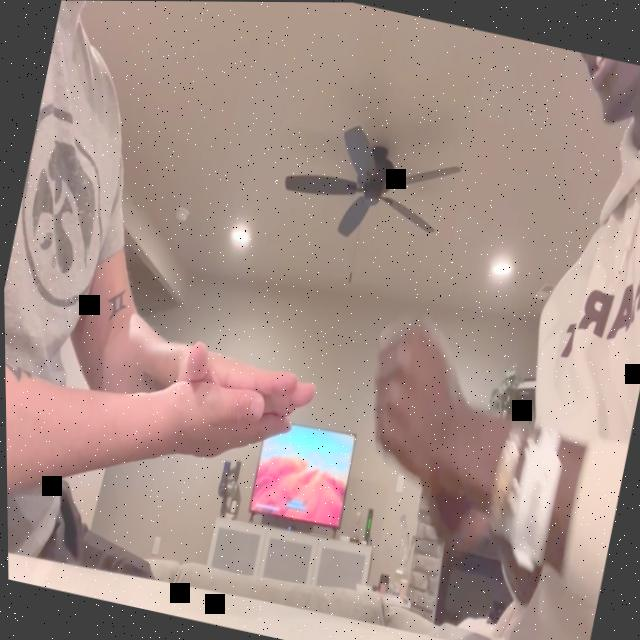Paper: (166, 337, 318, 426)
Rock: (349, 301, 479, 485)
